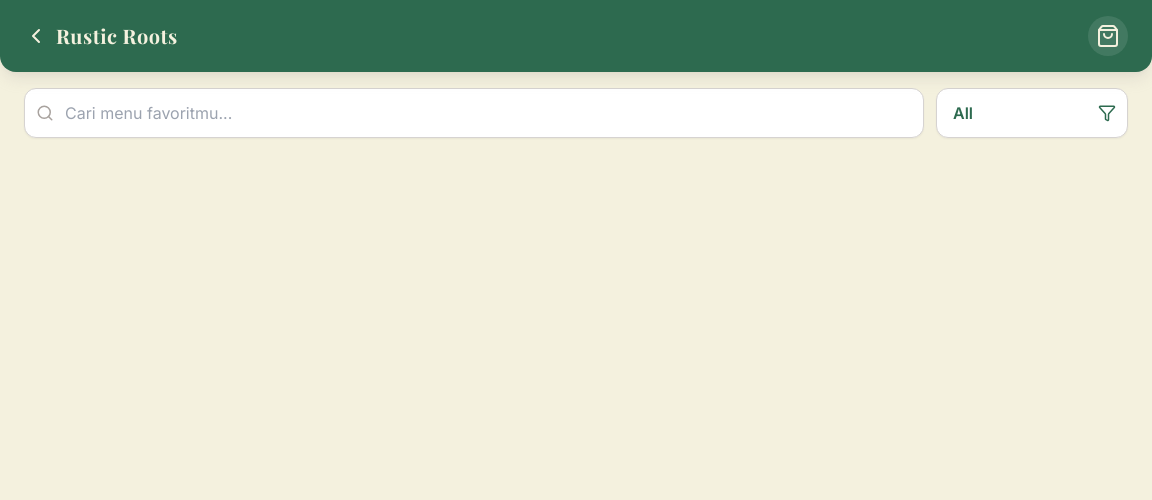
Test: Menu Page › filters products by category
This screenshot has width=1152, height=500.
Select "Drinks" in the dropdown at (1032, 113), box 936,88 -> 1128,138
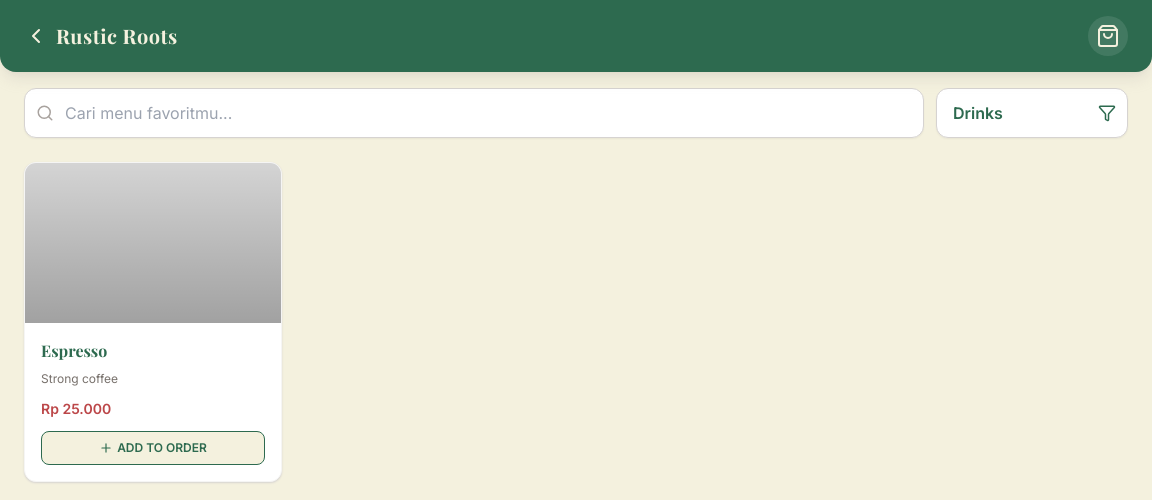
Check: the heading "Espresso" is shown, box 41,340 -> 107,361
